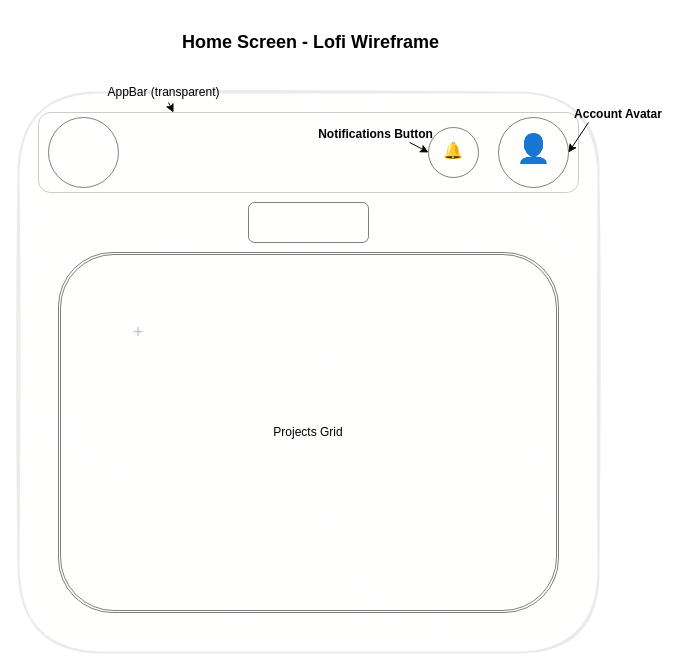
This 695x671 diagram has some shape labels left out. The box of each missing label's shape, as (x1, y1, x2, y2) in pixels:
Logo Icon: (48, 116, 118, 188)
Organisation Selector: (248, 202, 368, 242)
